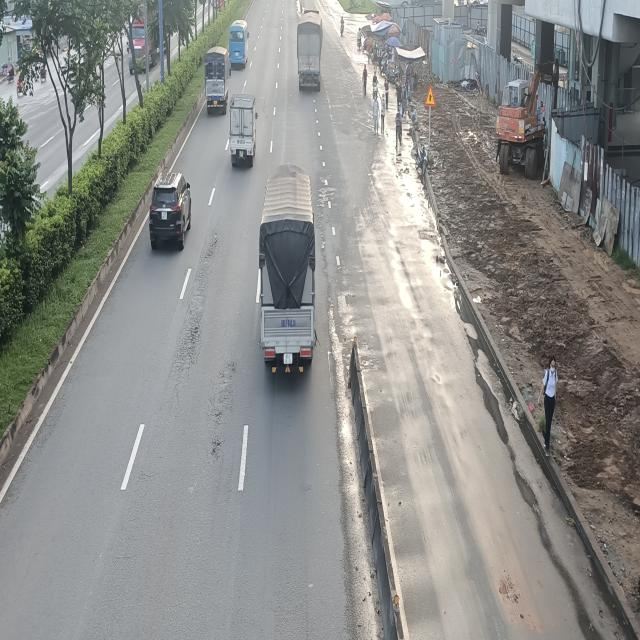car: (148, 175, 192, 250)
coach: (230, 20, 248, 69)
truck: (256, 170, 318, 376), (227, 94, 256, 167), (296, 9, 321, 93), (204, 47, 228, 114)
